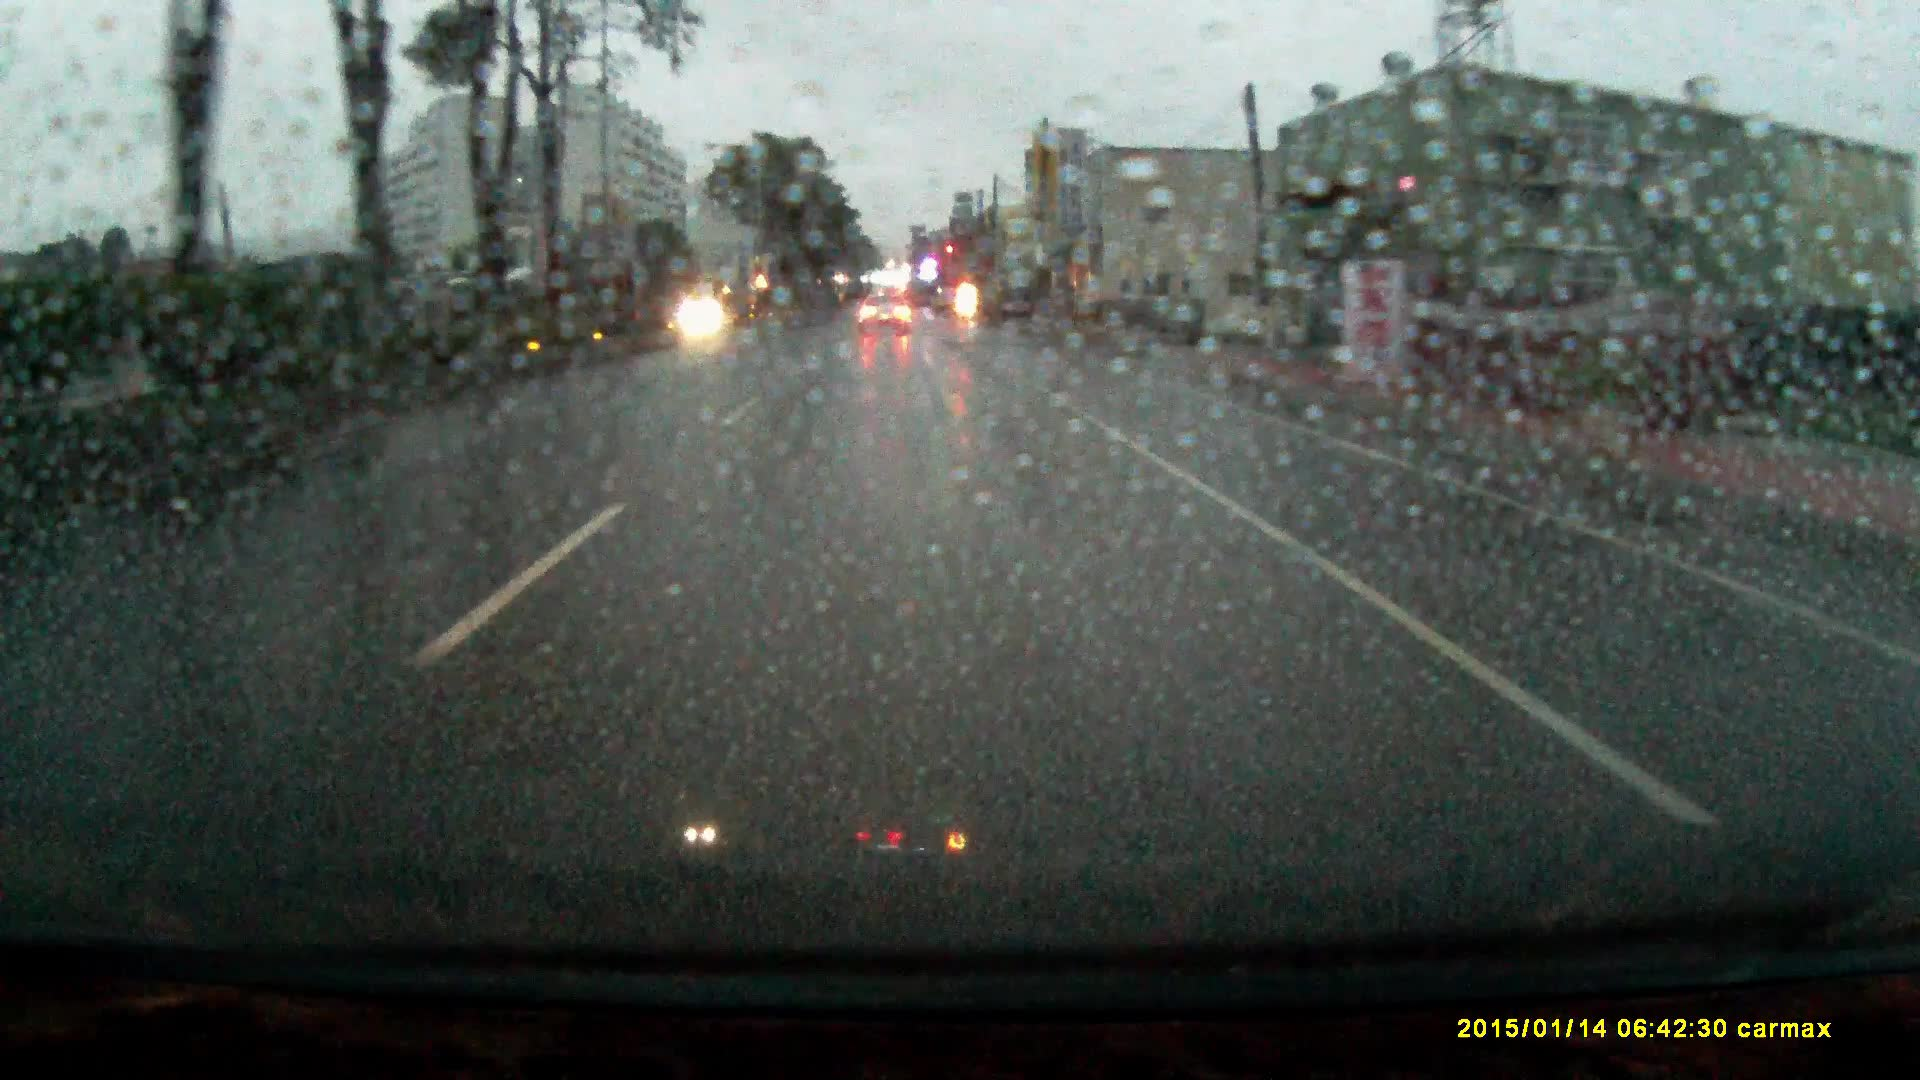vehicle: (858, 299, 911, 344)
